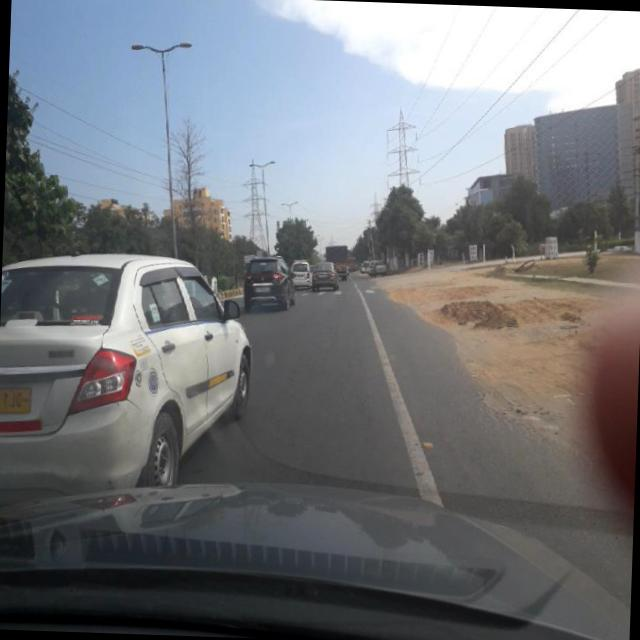crack: (250, 309, 433, 490)
